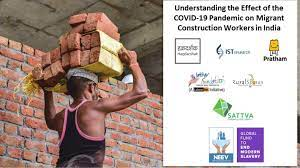arm: (27, 37, 92, 128), (82, 44, 150, 114)
glove: (64, 64, 102, 103)
human: (36, 6, 153, 163)
vest: (60, 60, 112, 142)
